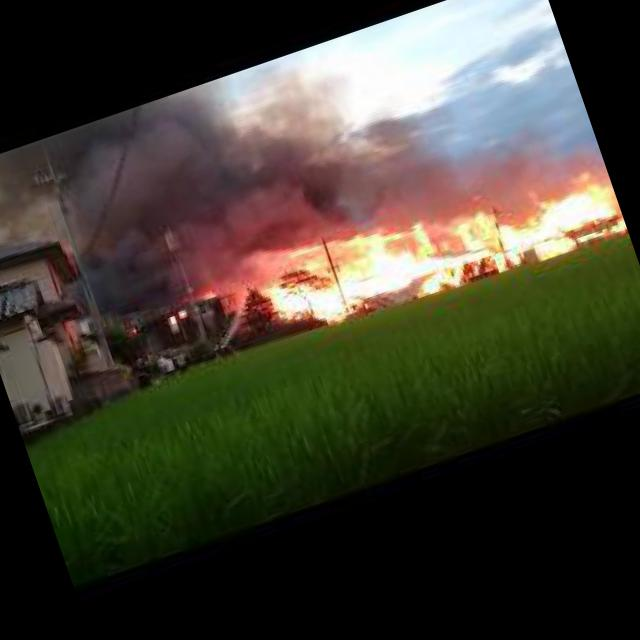fire: (127, 324, 136, 334)
smoke: (60, 17, 461, 321)
